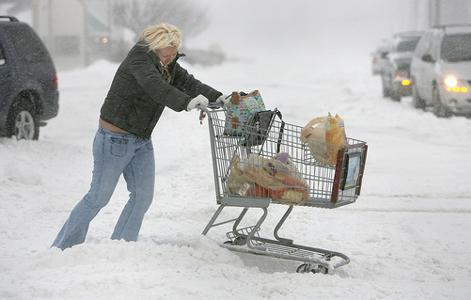person: (51, 23, 245, 251)
